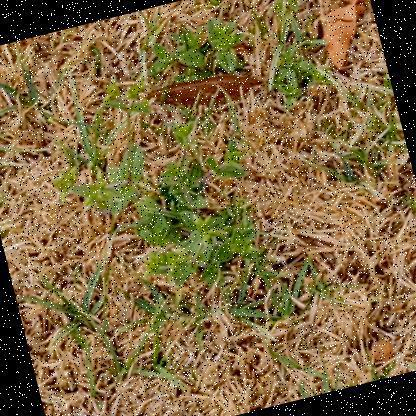Weeds: (30, 53, 274, 319), (143, 0, 316, 129)
